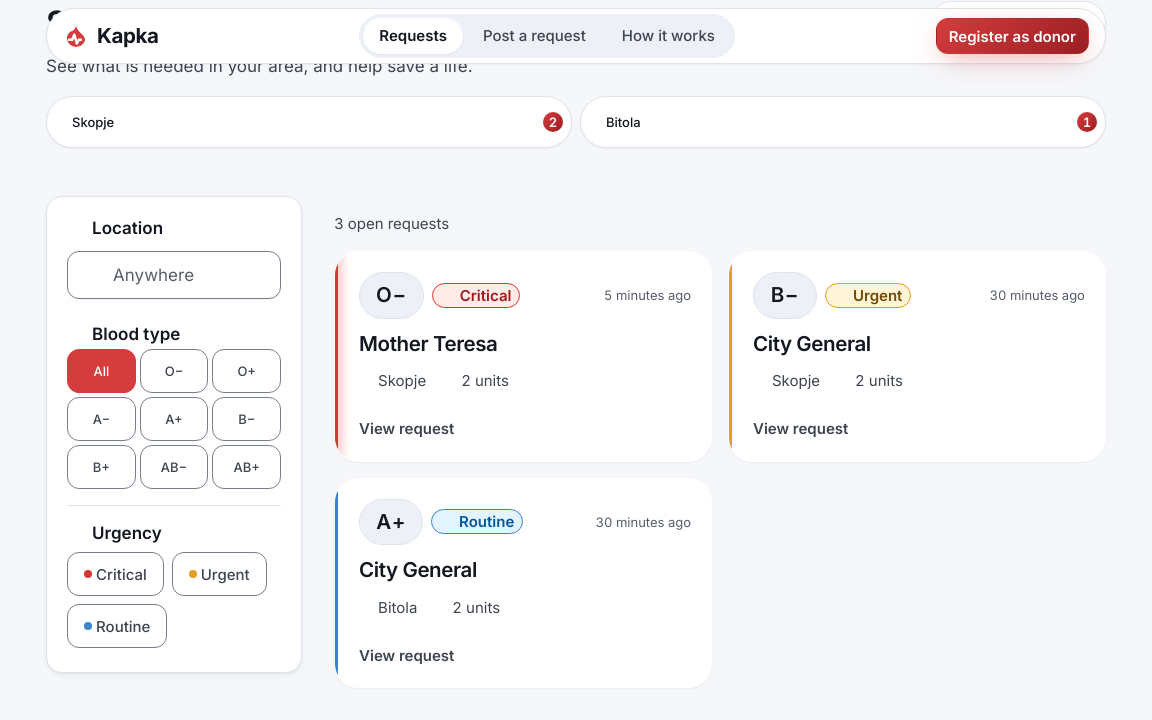
Test case: the public feed › filters by urgency, and says so in the singular
(page scrolled)
Expected: the text "3 open requests" is shown, [334,214,449,233]
What coordinates should you click on to do the following:
click the button "Critical"
I would click on:
 (115, 574)
Its box is [67,552,164,596].
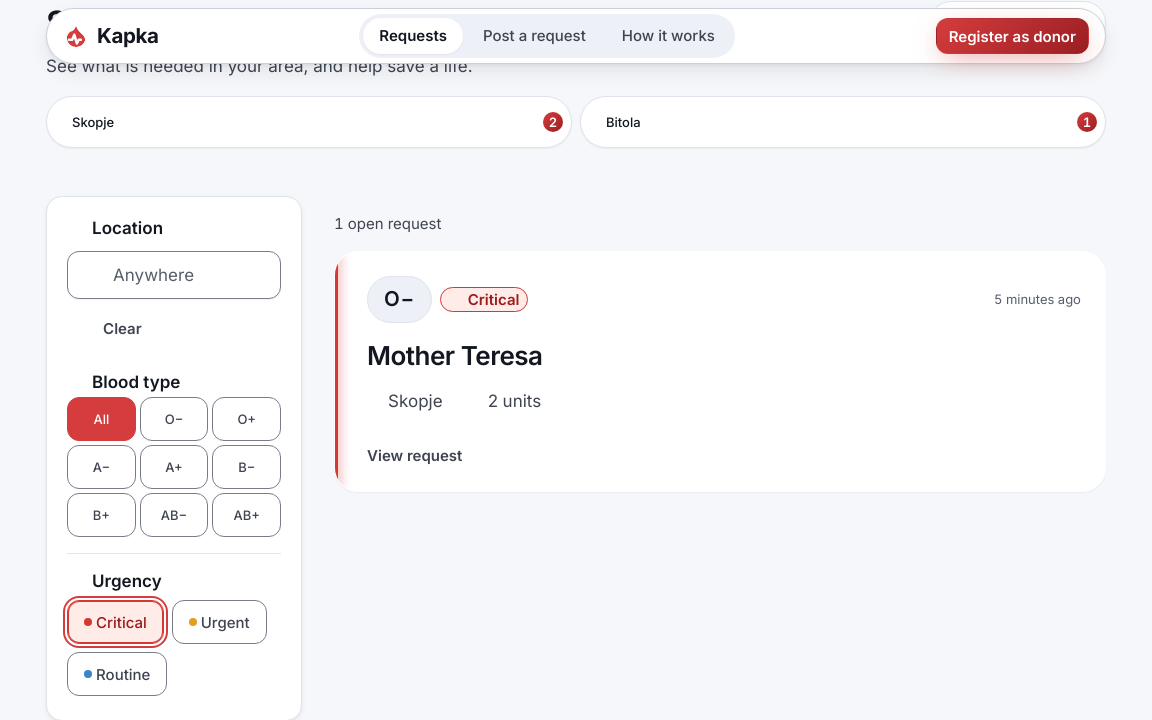
Expected: the text "1 open request" is shown, [334,214,441,233]
